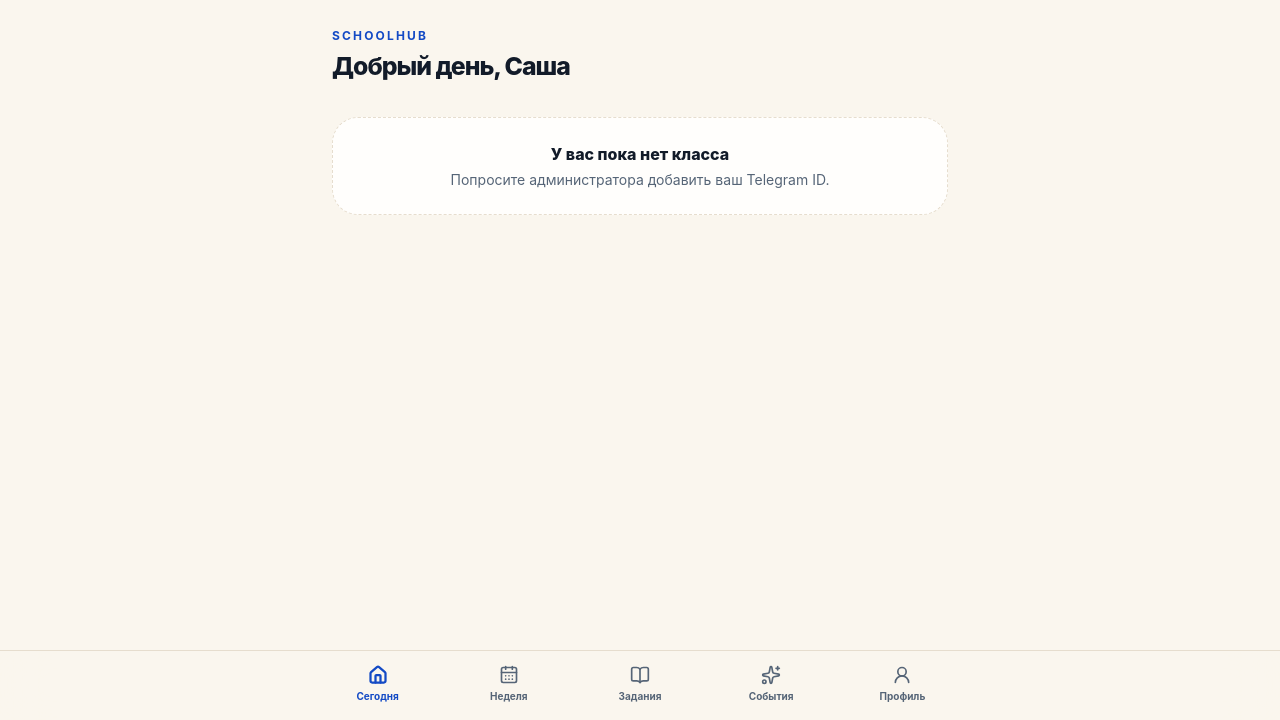
Test: first class onboarding › does not offer class creation to a non-admin
This screenshot has width=1280, height=720.
Expected: the heading "У вас пока нет класса" is shown, left=551, top=144, right=729, bottom=164
Click the button "Профиль" at (902, 684), box left=837, top=659, right=968, bottom=710
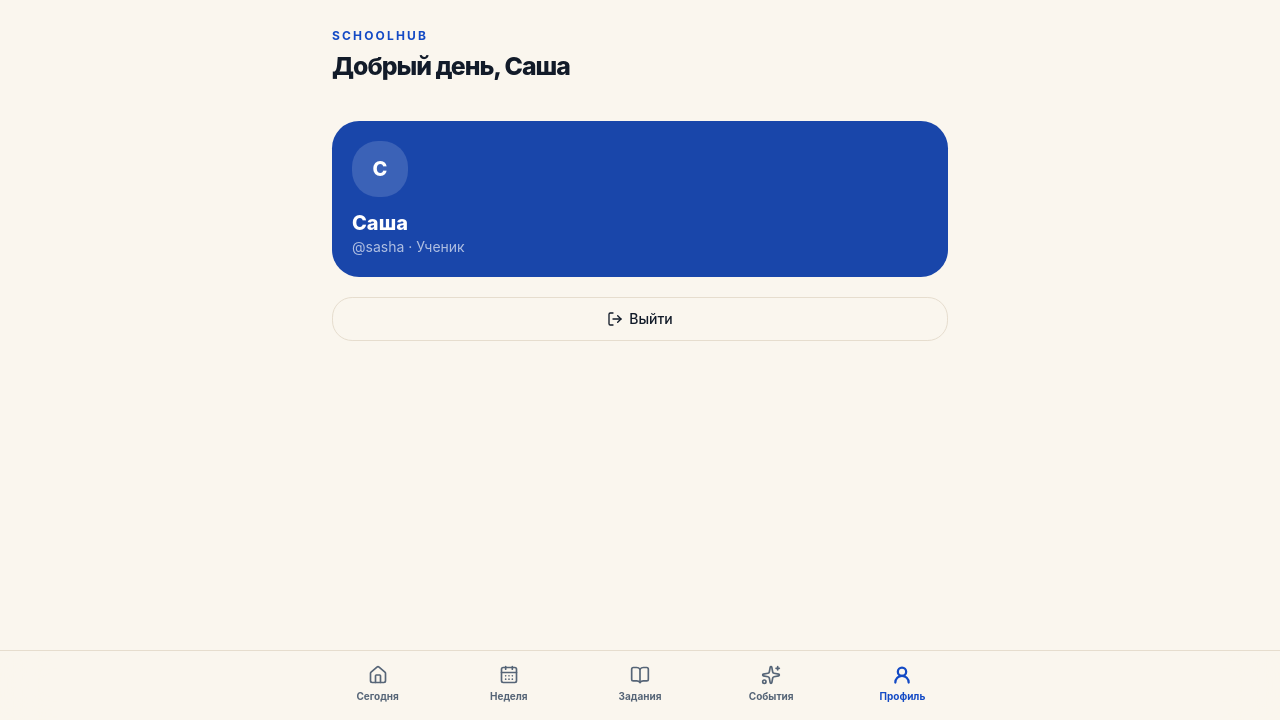
Now the heading "Саша" is shown, box left=352, top=211, right=408, bottom=235
